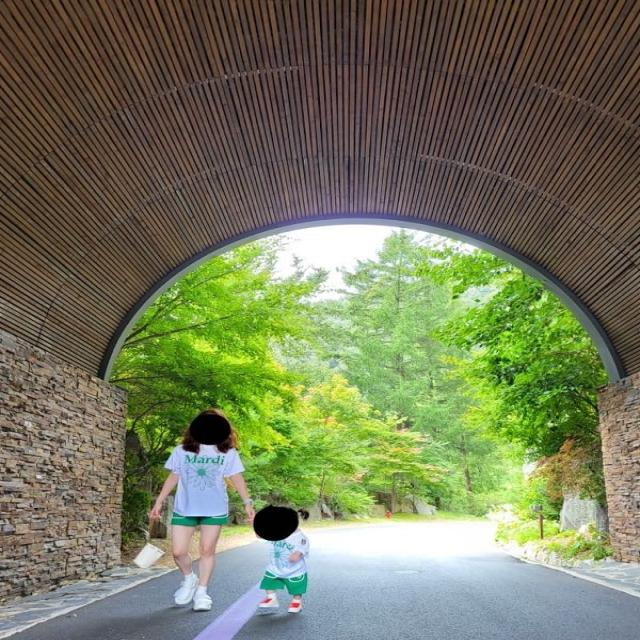shortpants: (170, 505, 230, 527), (260, 565, 307, 591)
shortsleeve: (164, 442, 243, 513), (268, 526, 309, 583)
